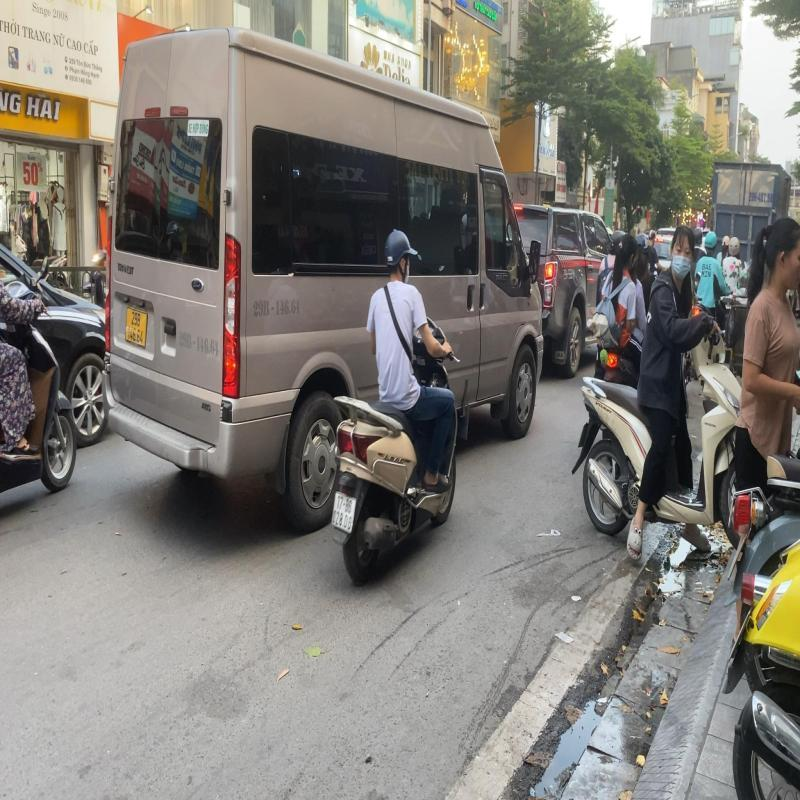nohelmet: (615, 231, 636, 269)
